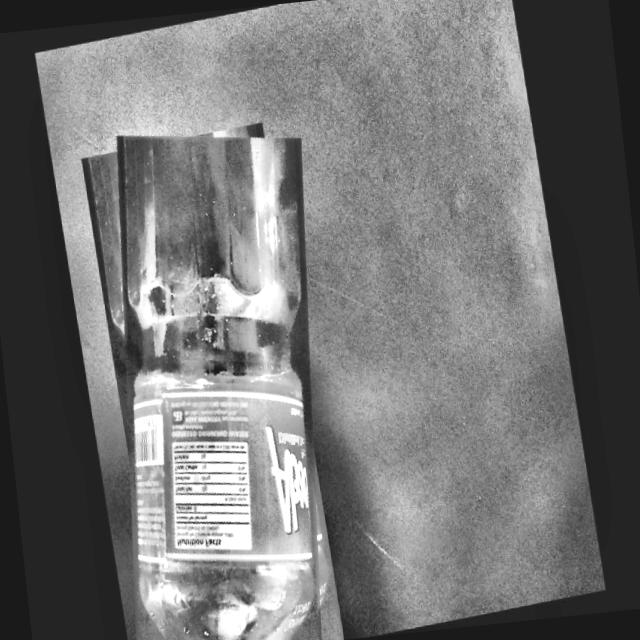Plastic-Bottle: (59, 105, 362, 640)
